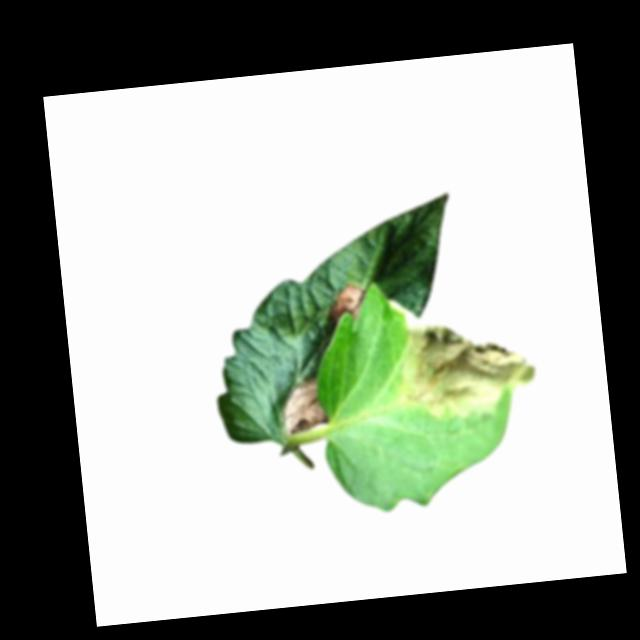Late_blight: (394, 308, 541, 426), (275, 377, 328, 435), (324, 281, 367, 323)
